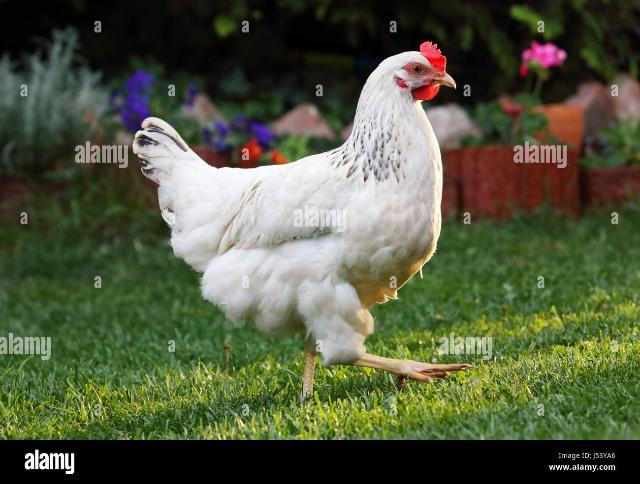Chicken: (132, 41, 477, 399)
